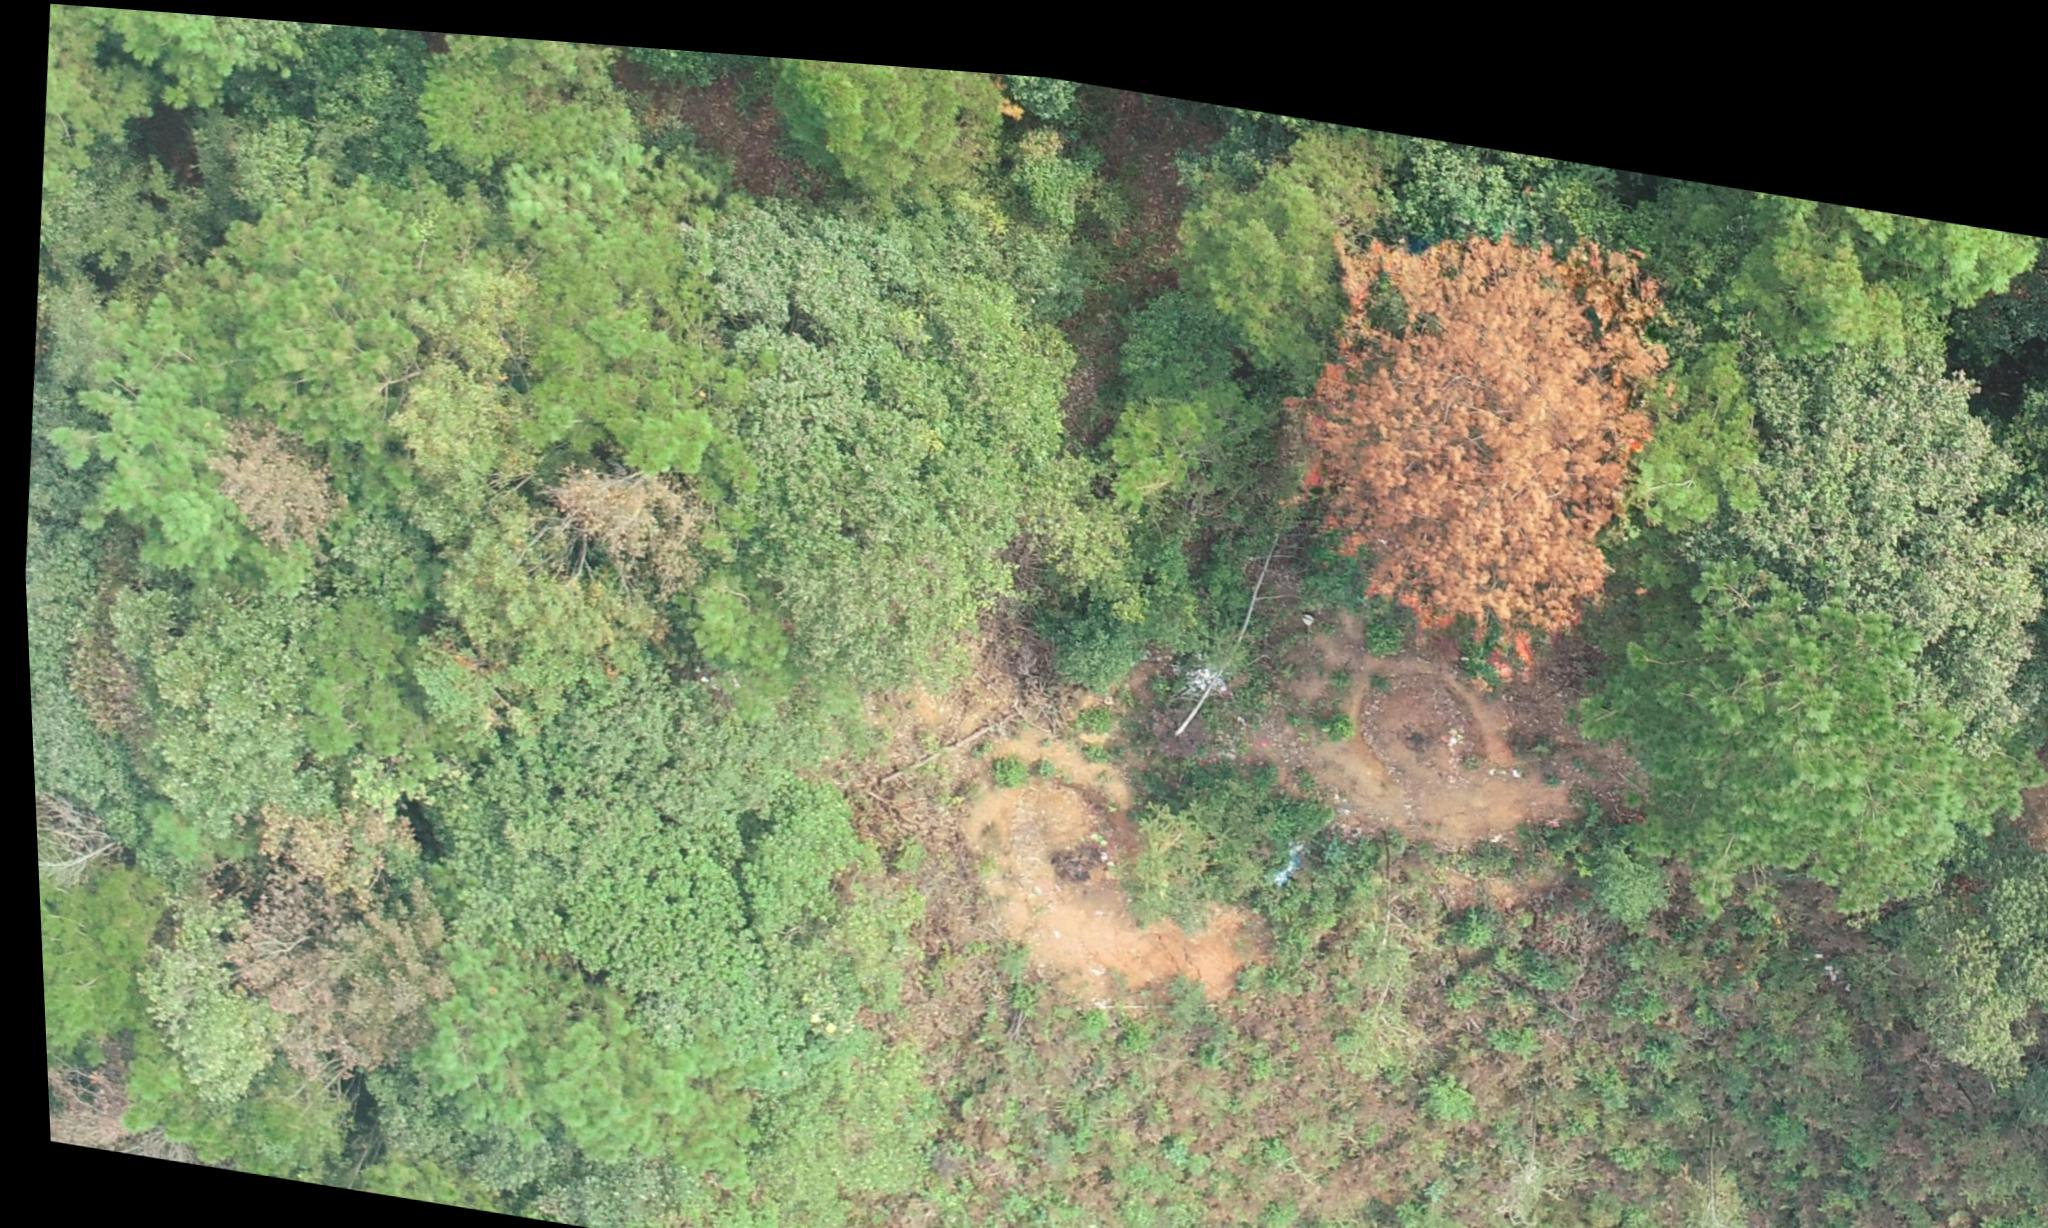heavy: (1278, 189, 1671, 675)
